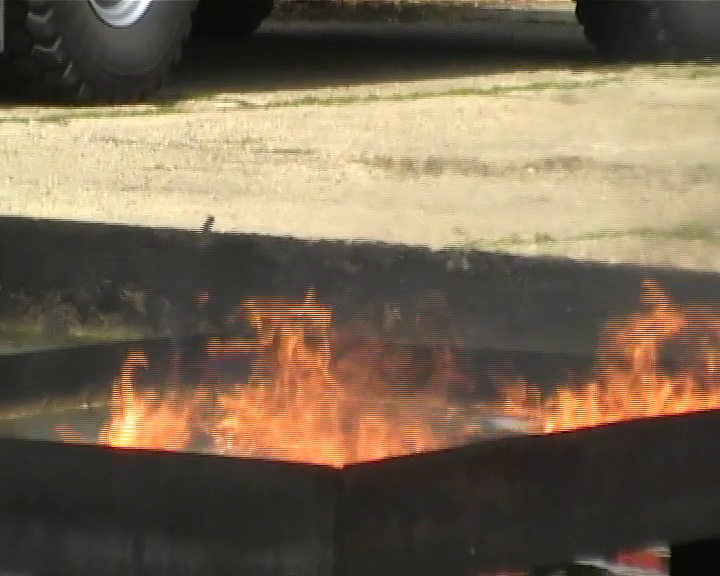fire: (113, 307, 403, 464), (547, 298, 716, 428)
